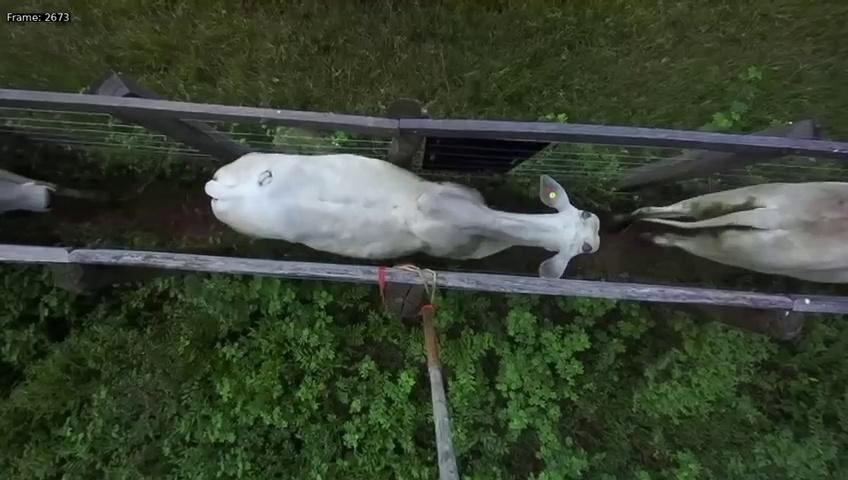cattle: (204, 124, 601, 278)
